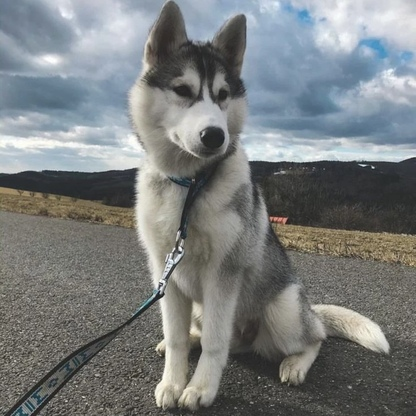husky: (124, 1, 396, 416)
